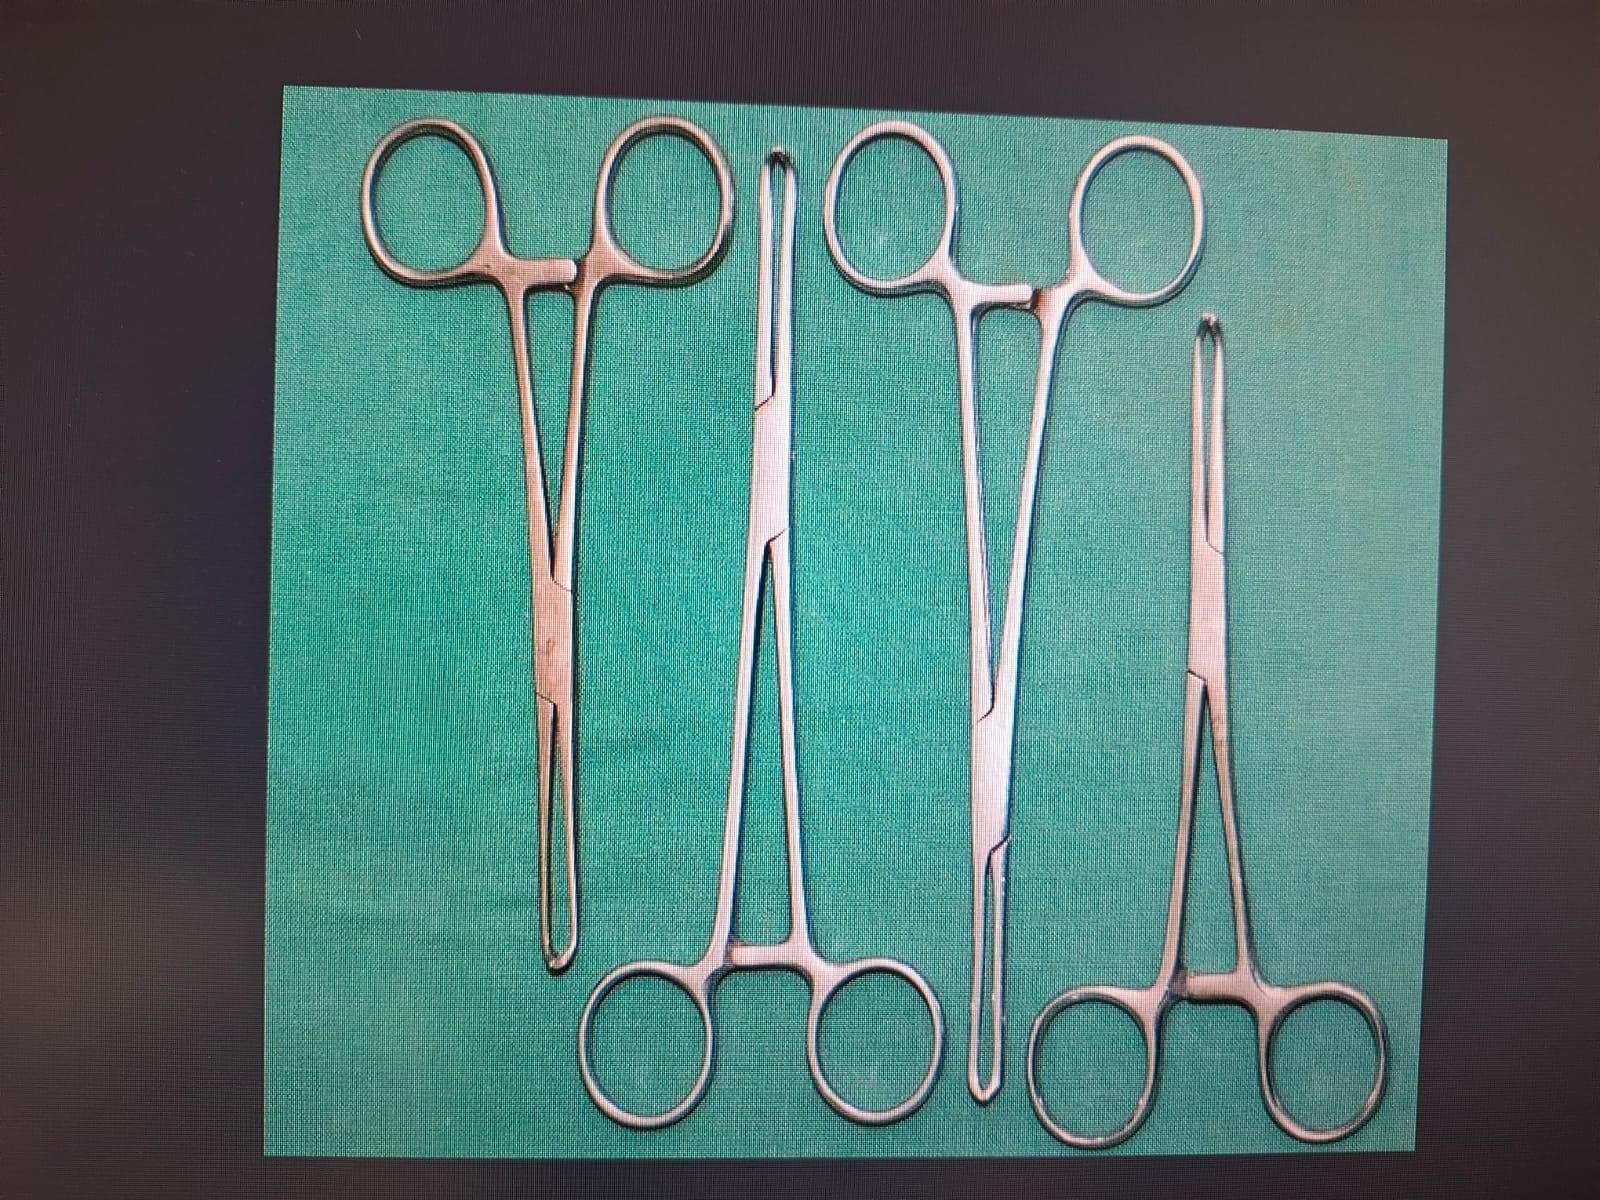Allis Forceps: (794, 114, 1270, 1112), (558, 136, 952, 1148), (1014, 298, 1430, 1154), (348, 106, 742, 984)
